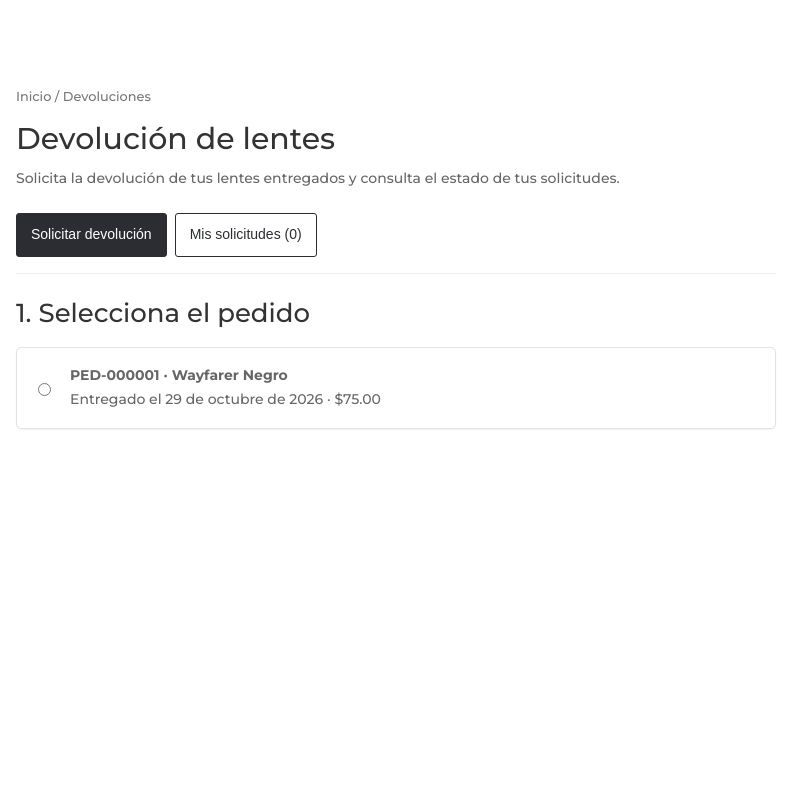
Test: ReturnsPage › sin forma de devolución: muestra el error junto al campo, lo enfoca y no envía
Click the radio button labelled "PED-000001" at (44, 389), box 38,383 -> 51,396
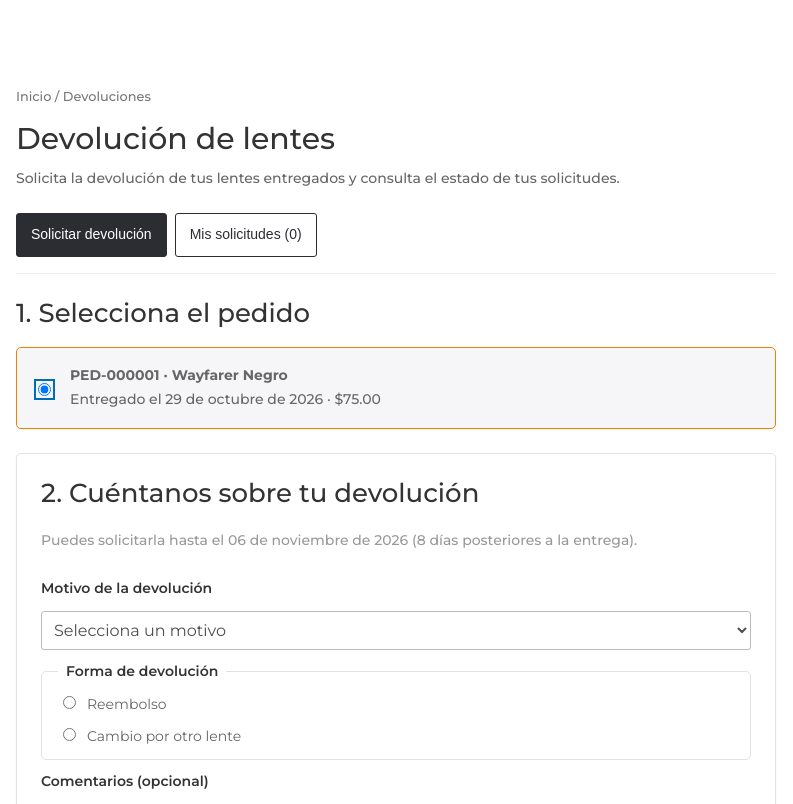
Select "Otro" in the dropdown labelled "Motivo de la devolución" at (396, 630), box 41,610 -> 751,650
(page scrolled)
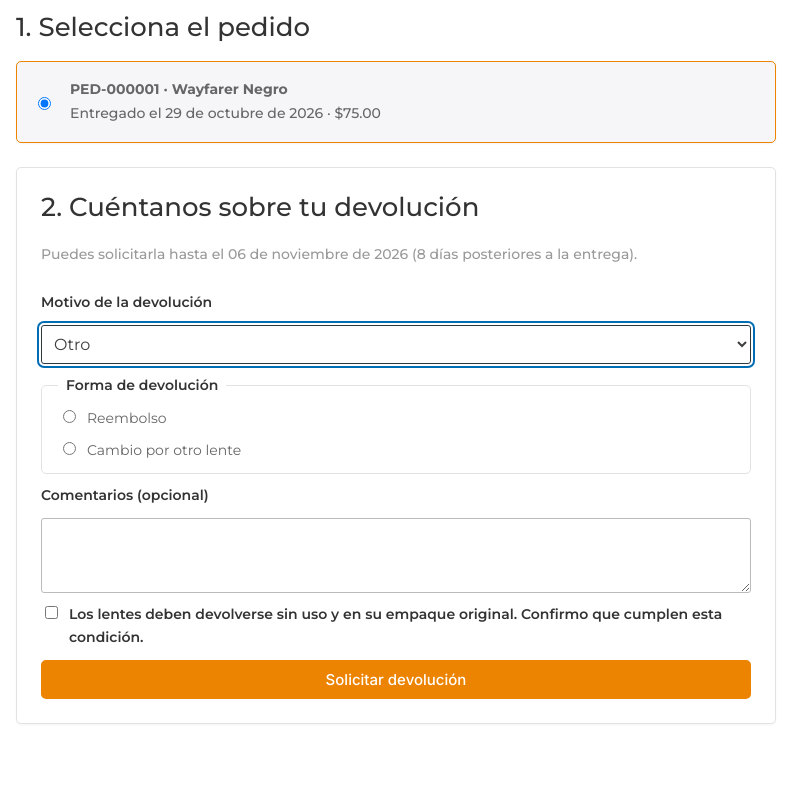
Click the checkbox at (52, 612), box 45,606 -> 58,619
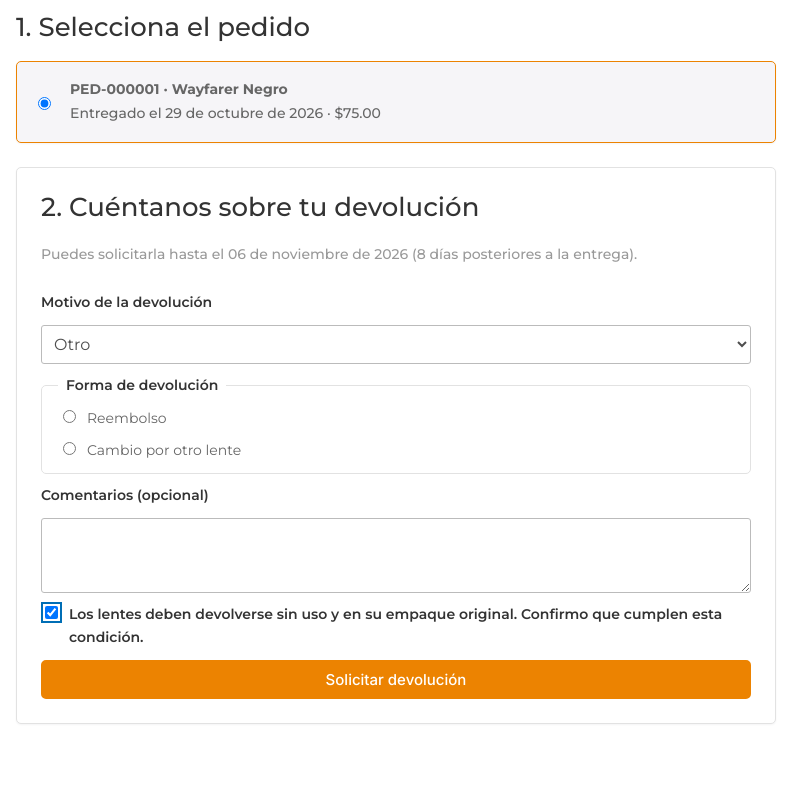
Click the button "Solicitar devolución" at (396, 680), box 41,660 -> 751,699
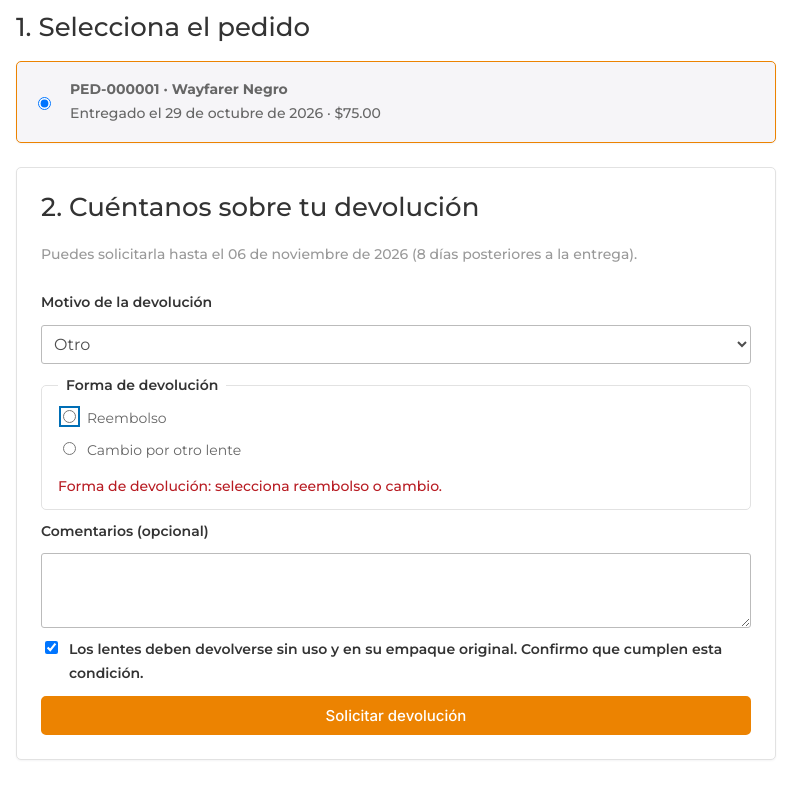
Expected: the message reads "Forma de devolución: selecciona reembolso o cambio.", 58,477 -> 442,495
